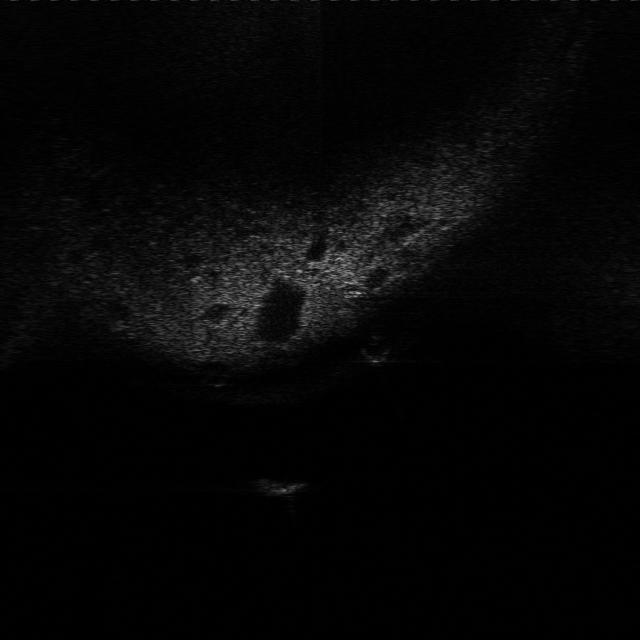ball: (356, 334, 396, 364)
cube: (260, 470, 310, 500)
